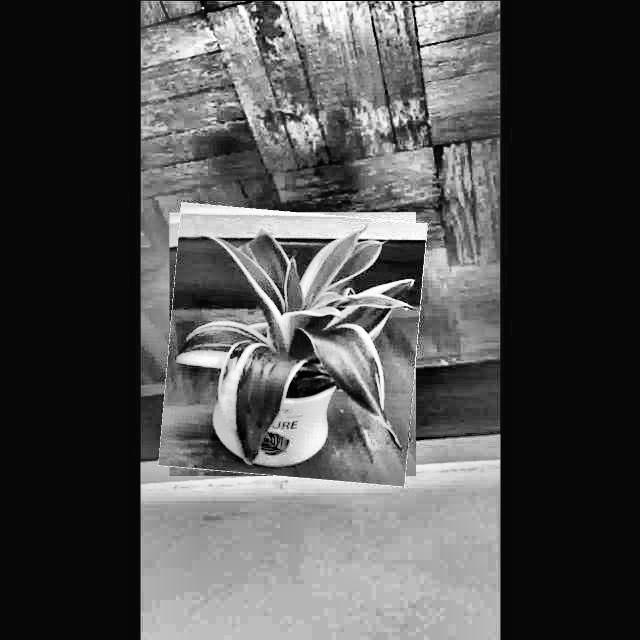plants: (164, 207, 422, 481)
